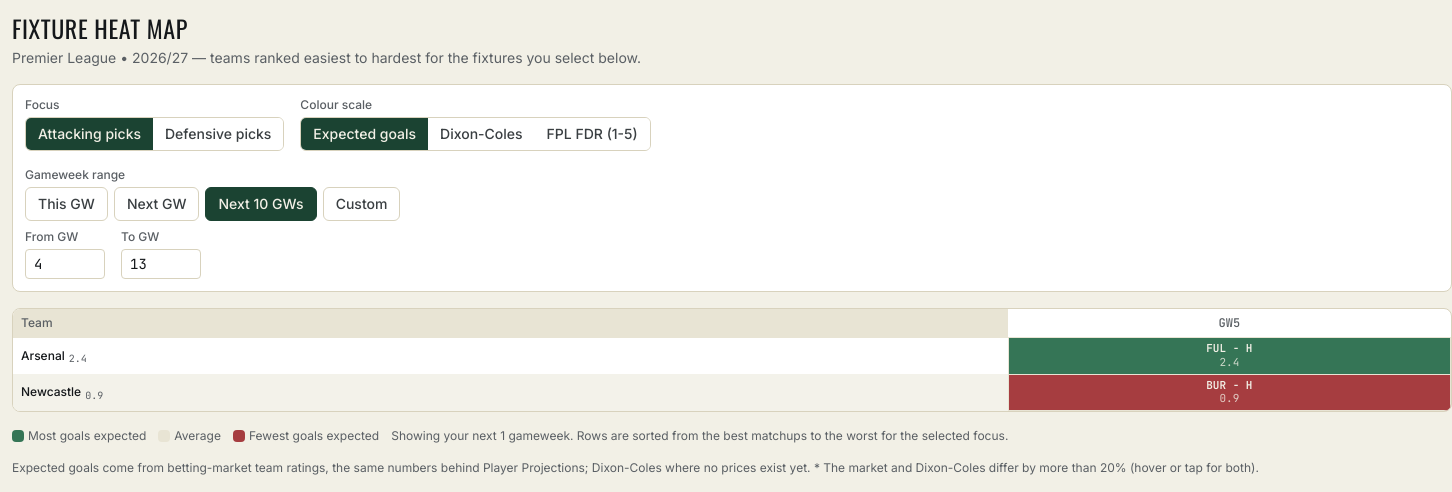
Test case: FantasyFixtures page › renders a heat map ranked easiest-to-hardest for attacking picks
Expected: the column heading "GW5" is shown, x1=1008 y1=309 x2=1450 y2=338
Expected: the button "This GW" is shown, x1=25 y1=187 x2=108 y2=221
Click the button "Defensive picks" at (218, 134), box x1=153 y1=118 x2=283 y2=150
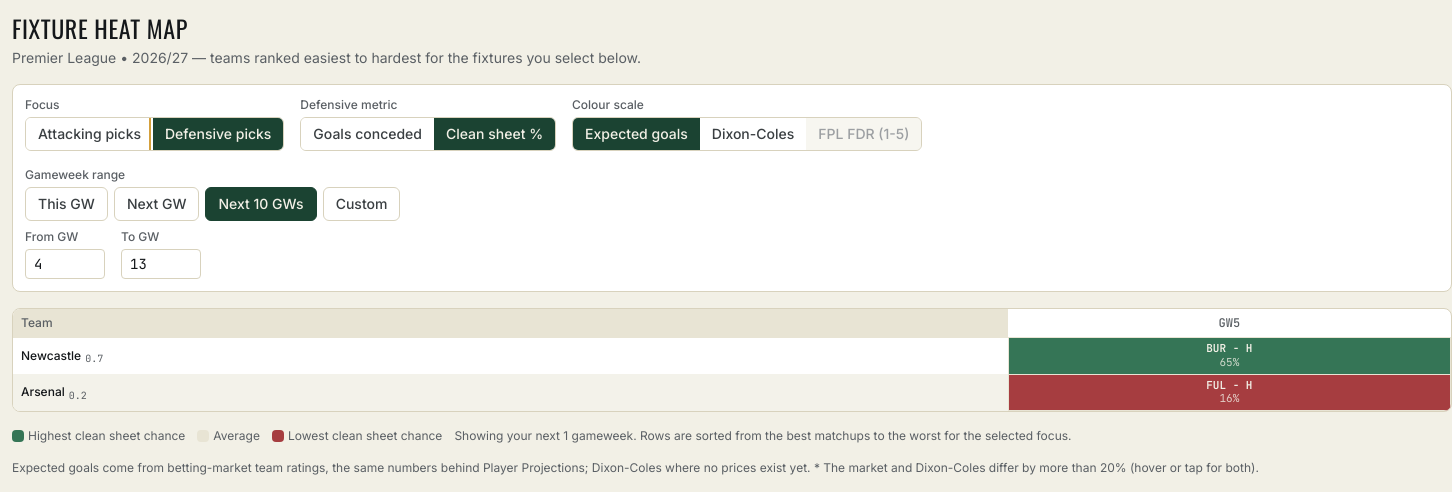
Expected: the column heading with test id "team-row-name" shows "Newcastle", x1=21 y1=348 x2=81 y2=363
Expected: the text with test id "team-window-total" reads "0.7", x1=85 y1=352 x2=103 y2=365
Expected: the text with test id "team-window-total" reads "0.2", x1=69 y1=389 x2=87 y2=402
// Goals conceded is still one click away, ranked by lowest xGA.
Click the button "Goals conceded" at (368, 134), box x1=301 y1=118 x2=434 y2=150
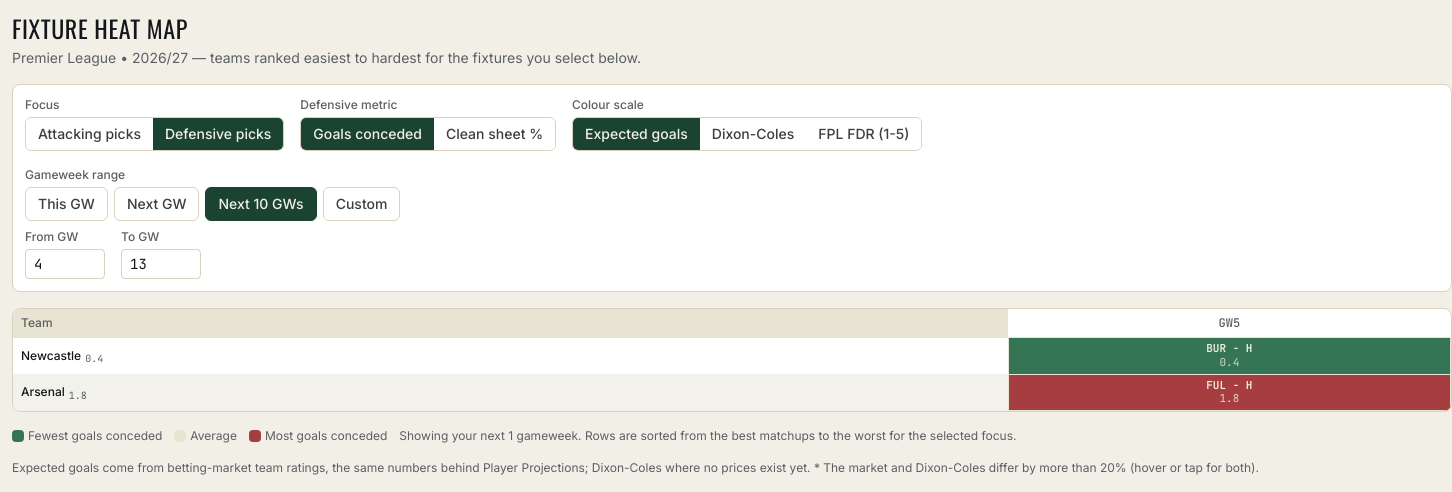
Expected: the text with test id "team-window-total" next to "Newcastle" reads "0.4", x1=85 y1=352 x2=103 y2=365
Click the button "Clean sheet %" at (495, 134), box x1=434 y1=118 x2=555 y2=150
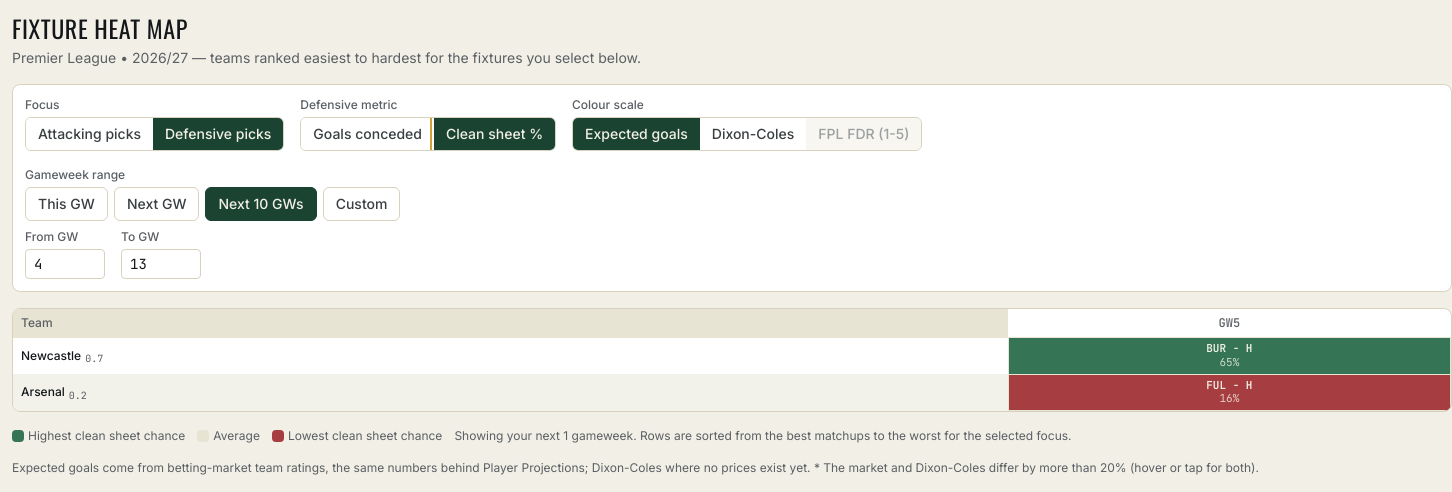
Expected: the button "FPL FDR (1-5)" is disabled, x1=806 y1=118 x2=921 y2=150
